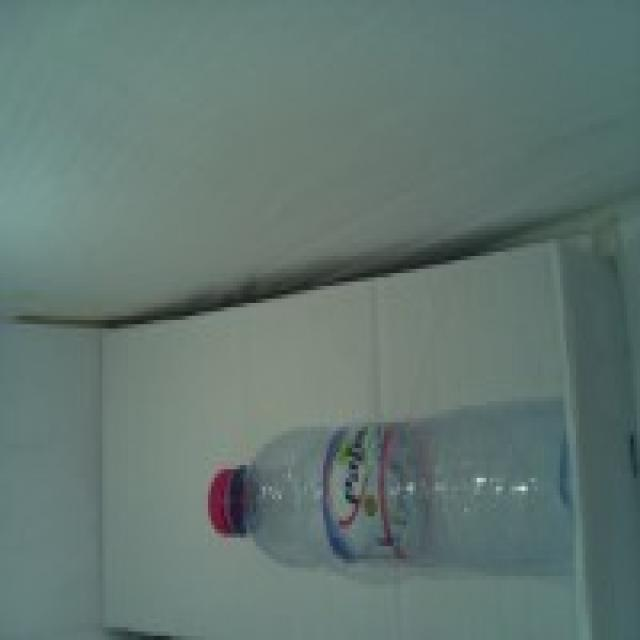Anorganik: (202, 422, 570, 568)
